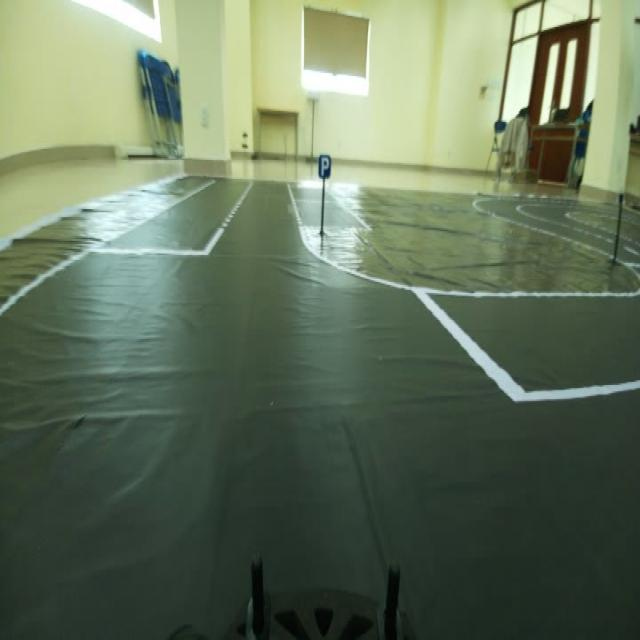parking: (312, 148, 338, 185)
